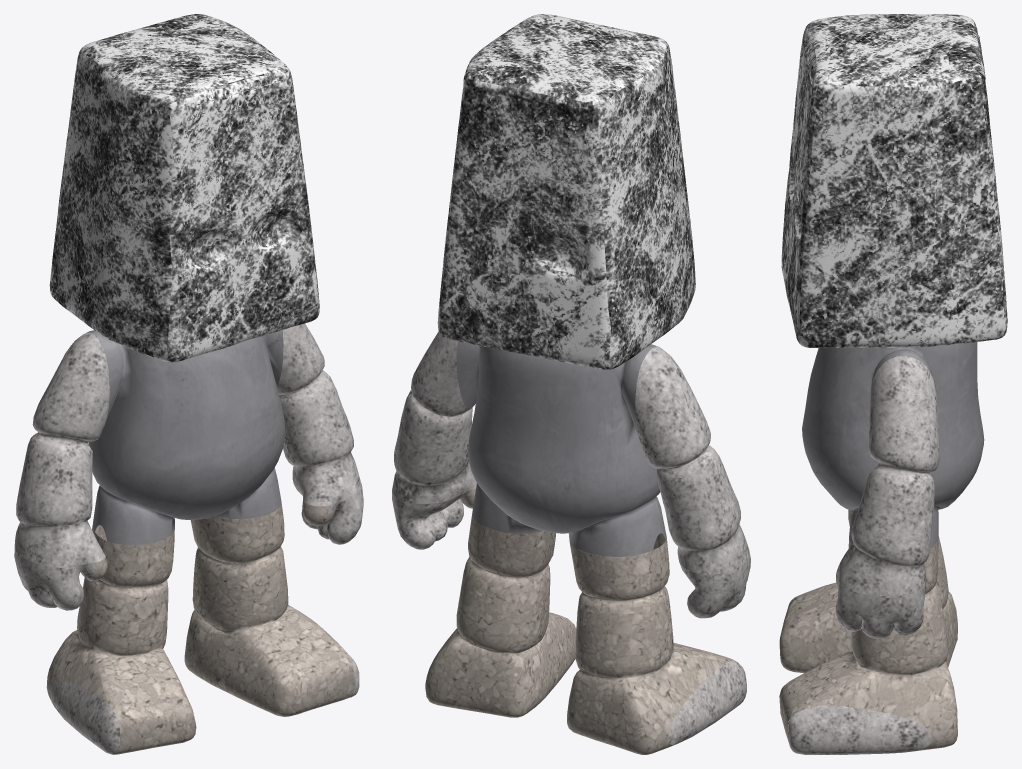
File: 09-monolith-tanka--boxy_humanoid_3d_model.glb
3 renders of one model, left to right at view 1: azimuth 30°, elevation 25°; view 2: azimuth 150°, elevation 25°; view 3: azimuth 270°, elevation 25°, orthographic. The views are drawn at different scales.
Parts seen in each view (by area): view 1: head_mesh, feet_mesh, arms_mesh, body_mesh; view 2: head_mesh, feet_mesh, body_mesh, arms_mesh; view 3: head_mesh, arms_mesh, feet_mesh, body_mesh.
Part boxes in pixels (bbox=[...]): head_mesh: bbox=[49, 14, 319, 362]; feet_mesh: bbox=[46, 485, 353, 754]; arms_mesh: bbox=[14, 323, 363, 754]; body_mesh: bbox=[86, 330, 285, 544]; head_mesh: bbox=[437, 14, 695, 369]; feet_mesh: bbox=[425, 489, 735, 754]; body_mesh: bbox=[456, 341, 666, 556]; arms_mesh: bbox=[392, 331, 750, 744]; head_mesh: bbox=[781, 14, 1007, 347]; arms_mesh: bbox=[788, 356, 939, 754]; feet_mesh: bbox=[779, 509, 957, 753]; body_mesh: bbox=[802, 342, 984, 547].
Size of the model in its own units: 1.64 by 3 by 0.9505.
4 materials, 4 textured.
